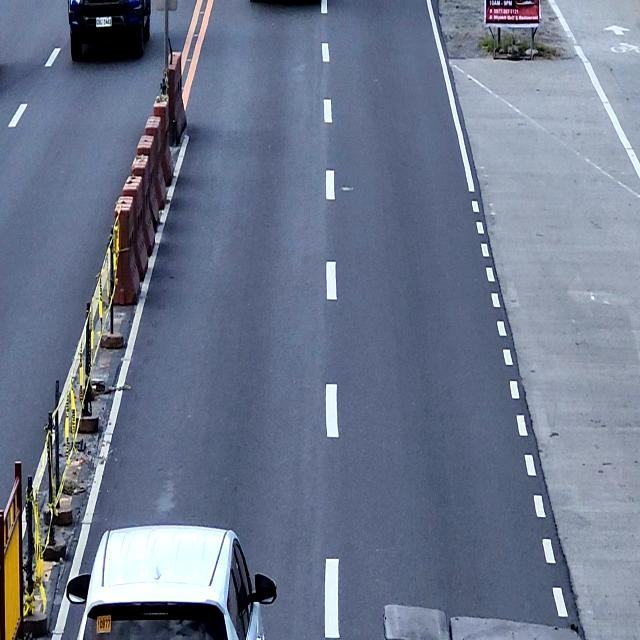Car: (66, 524, 277, 640), (68, 0, 151, 63)
License-Plate: (96, 16, 112, 28)
